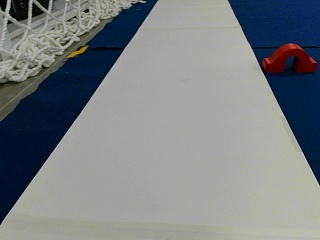bridge: (264, 43, 316, 71)
